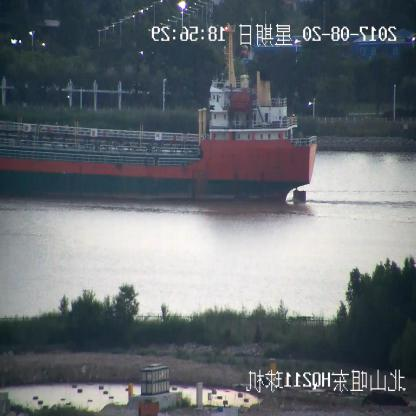Bulk Carrier: (0, 53, 318, 199)
